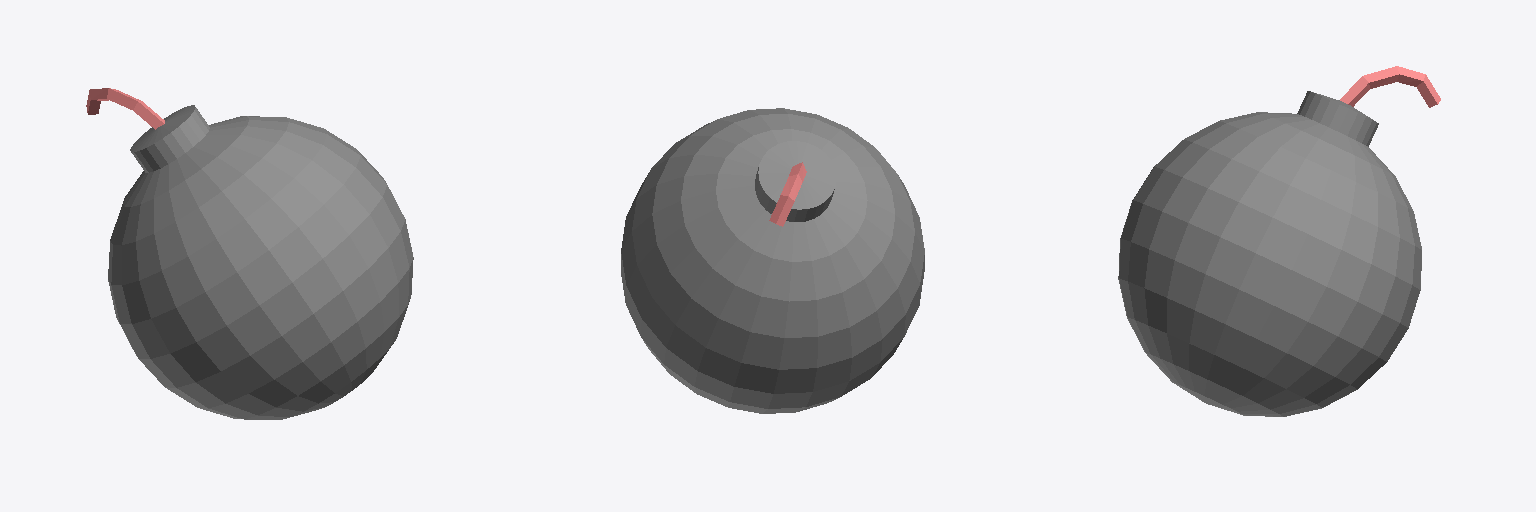
The model's file is MDL_Bomb.obj.
3 renders of one model, left to right at view 1: azimuth 30°, elevation 25°; view 2: azimuth 150°, elevation 25°; view 3: azimuth 270°, elevation 25°, orthographic.
Visible parts, largest first — view 1: MDL_Bomb; view 2: MDL_Bomb; view 3: MDL_Bomb.
Boxes of the visible parts, <box> form: MDL_Bomb: <box>86,88,413,419</box>; MDL_Bomb: <box>621,108,924,413</box>; MDL_Bomb: <box>1118,66,1440,416</box>.
Bounding box in the file's own units: 0.6687 × 0.7111 × 0.7096.